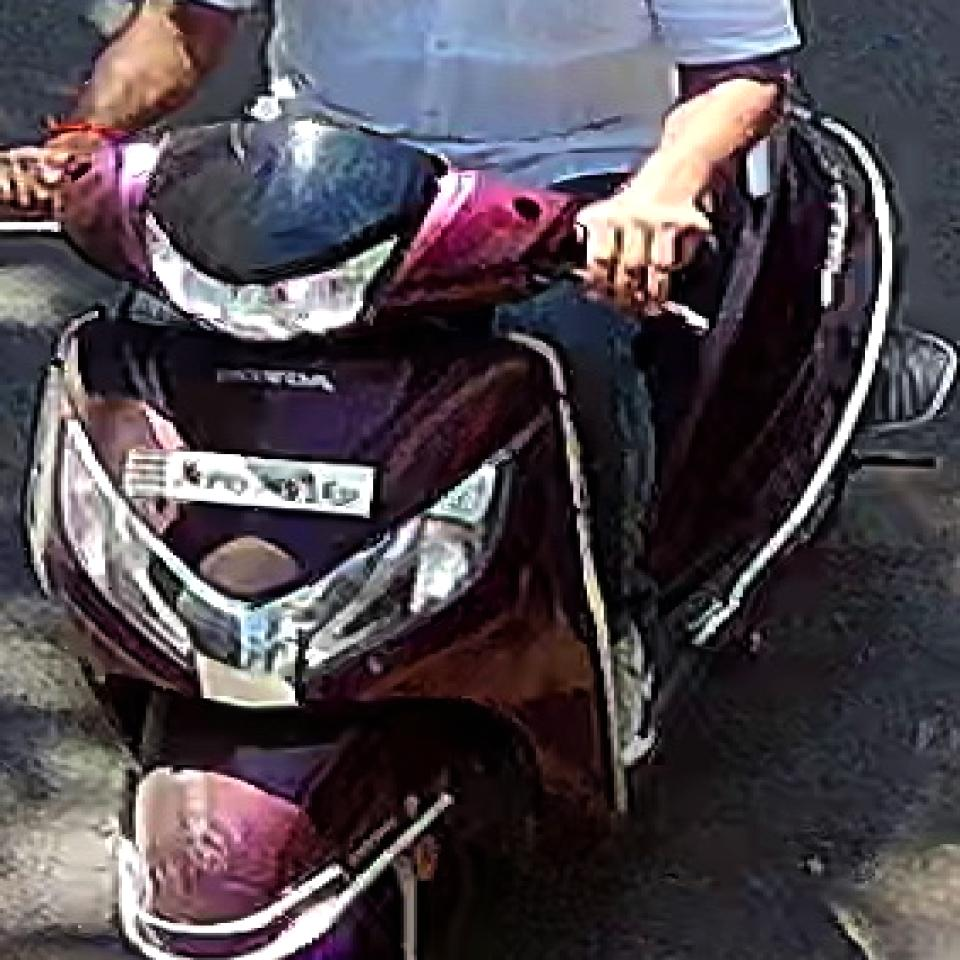head_light: (130, 216, 397, 338)
